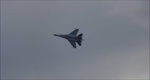maybay_muctieu: (54, 29, 85, 48)
